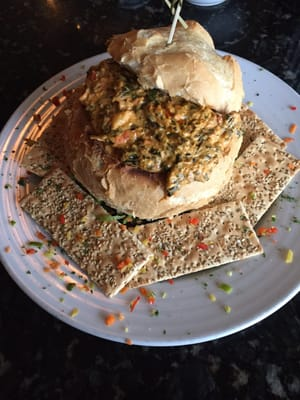curry: (0, 0, 298, 360)
